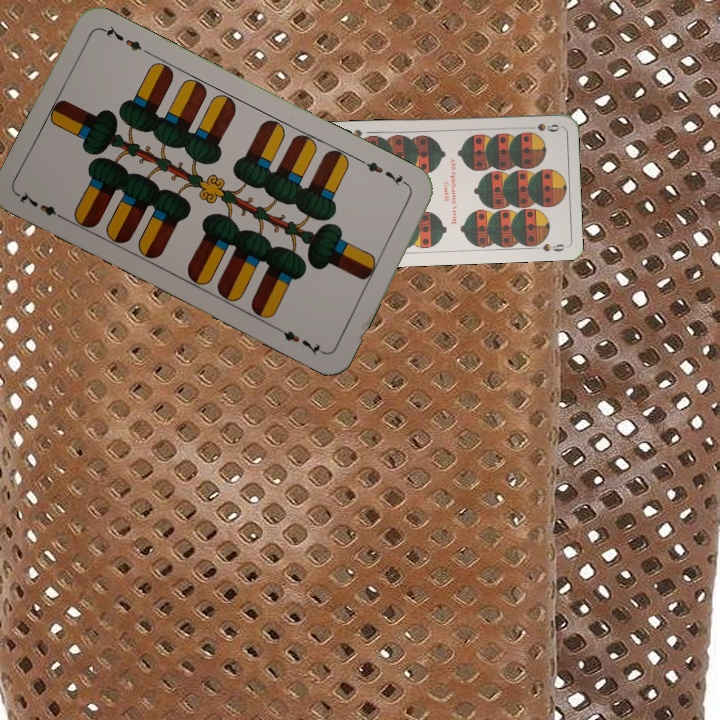E7: (14, 187, 69, 224), (357, 156, 412, 190)
S9: (531, 119, 562, 134)
